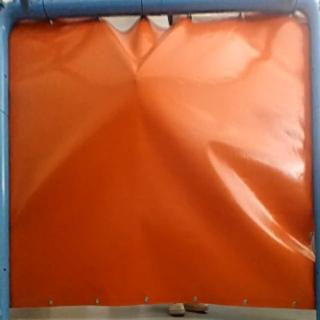Hit-hRxx: (126, 73, 146, 87)
